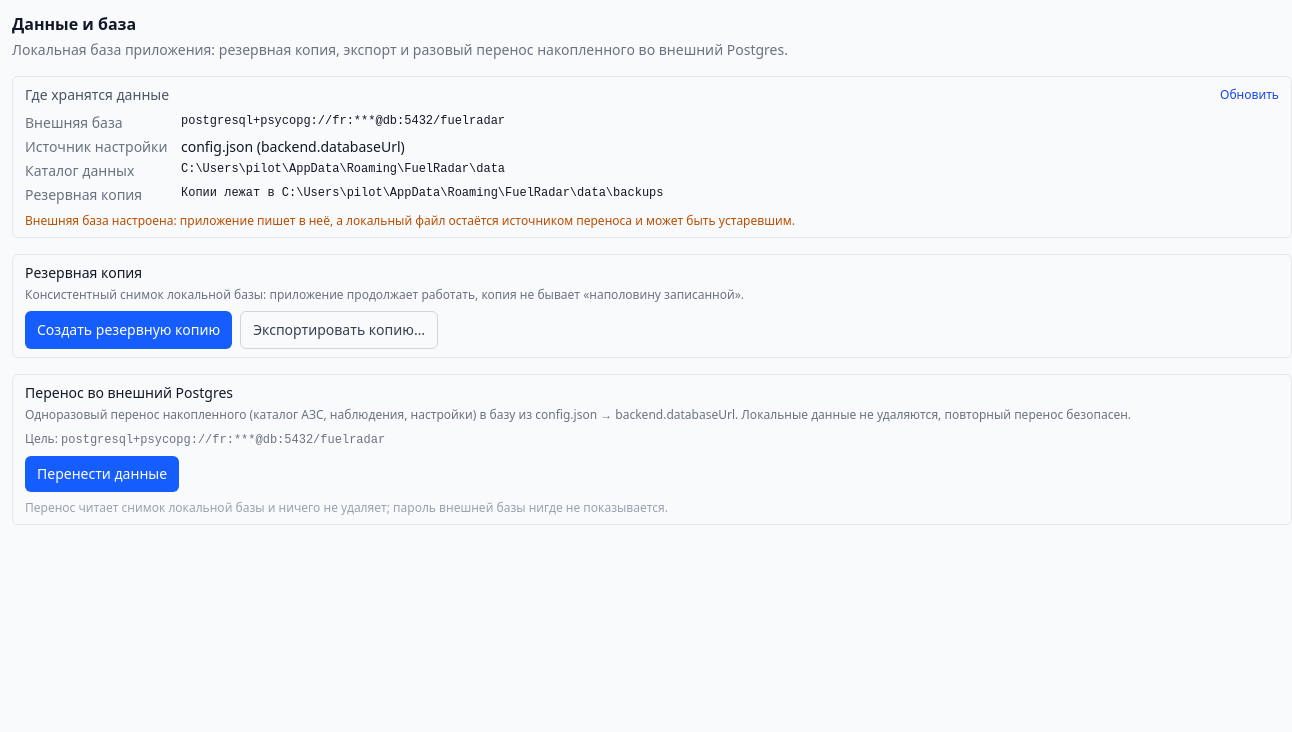
Test: DatabasePanel (desktop-оболочка) › неудачный перенос показывает причину и молчит про успех
Click the button "Перенести данные" at (102, 474), box [25,456,179,492]
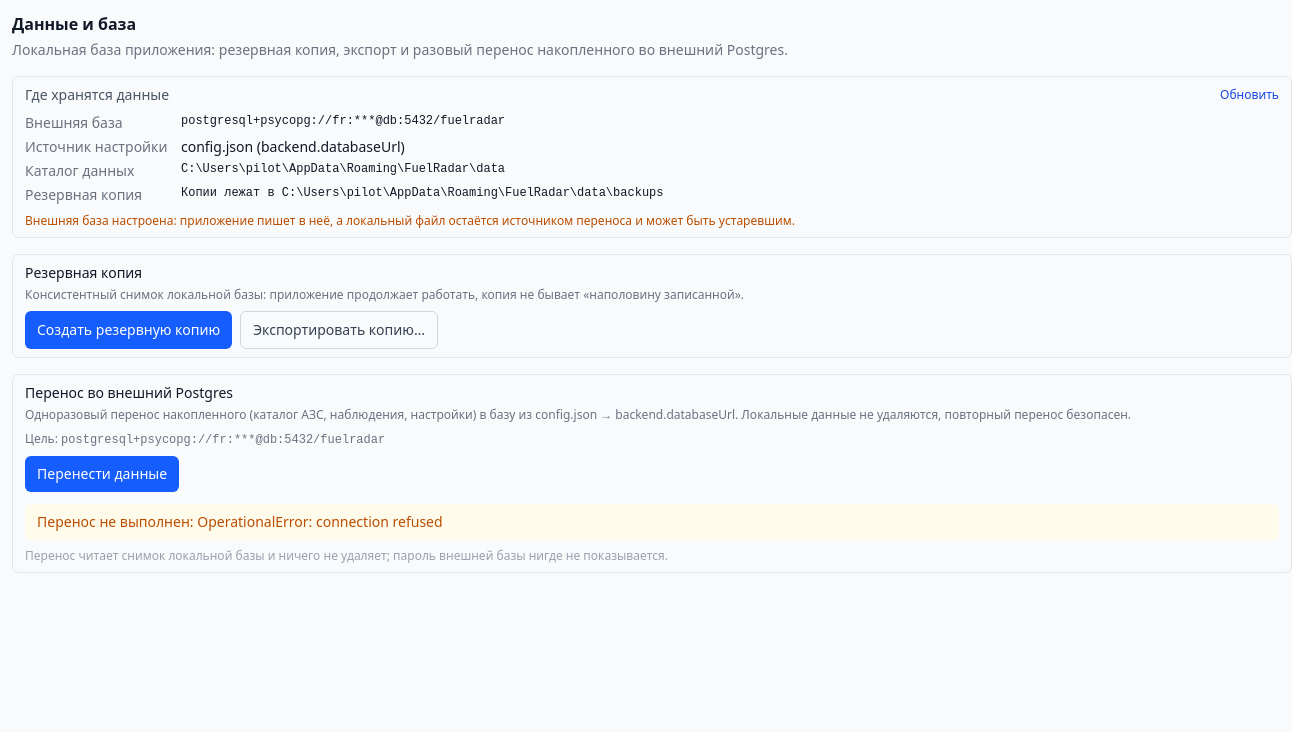
Check: the text "Перенос не выполнен: OperationalError: connection refused" is shown, box [25,504,1279,540]
